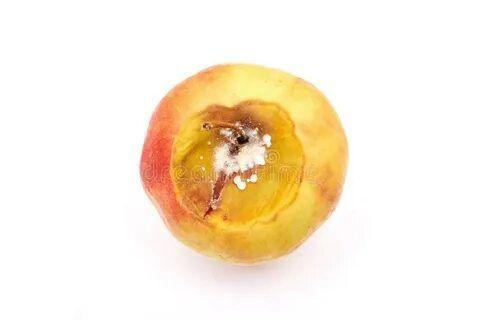Apple: (141, 62, 348, 267)
